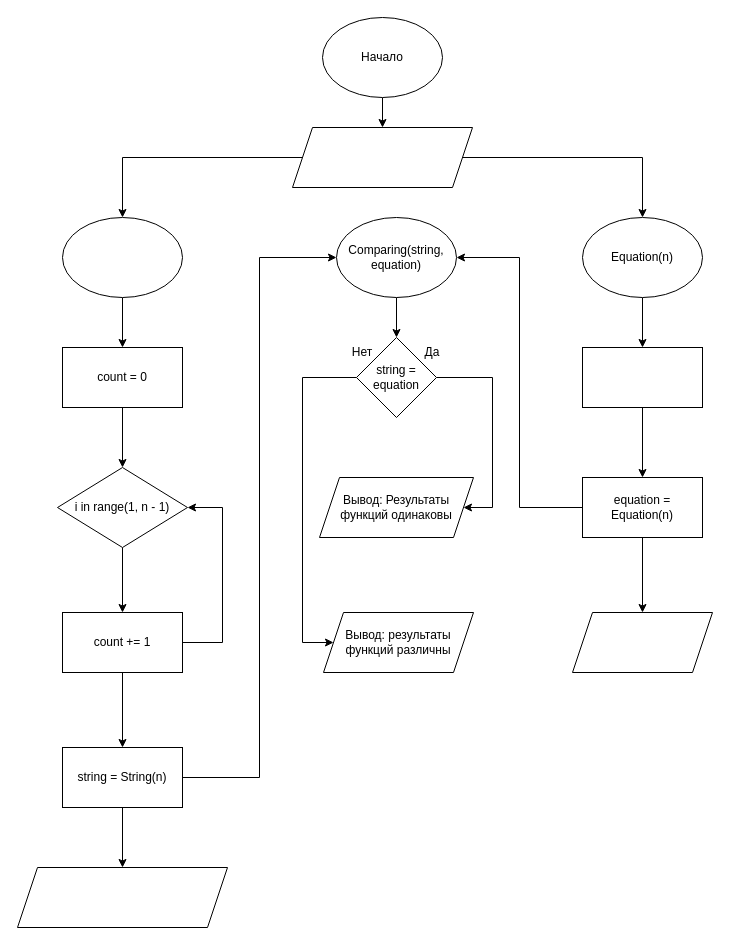
The diagram is 730 pixels wide and 945 high, and some of its shapes have lost their labels. Each missing label, with the centre of its shape:
"n * (n + 1) / 2" goes at [642,377].
"String(n)" goes at [122,257].
"Ввод: n = Введите число" goes at [382,157].
"Вывод: Результат работы ряда String(n)" goes at [122,897].
"Вывод: Результат работы функции Equanion(n)" goes at [642,642].
